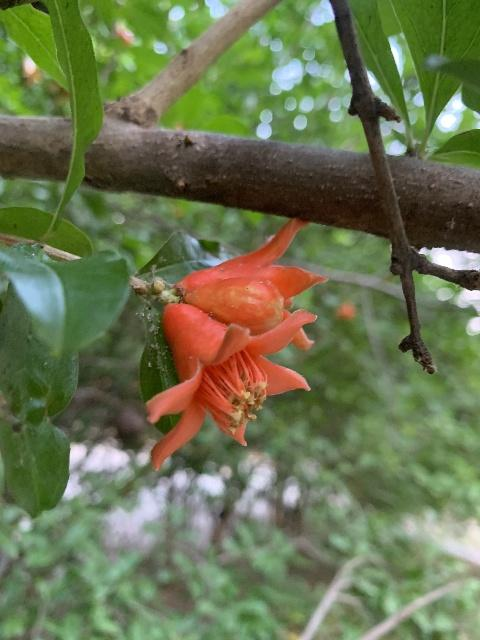bud: (184, 280, 284, 335)
flower: (145, 303, 317, 471), (175, 215, 328, 349)
